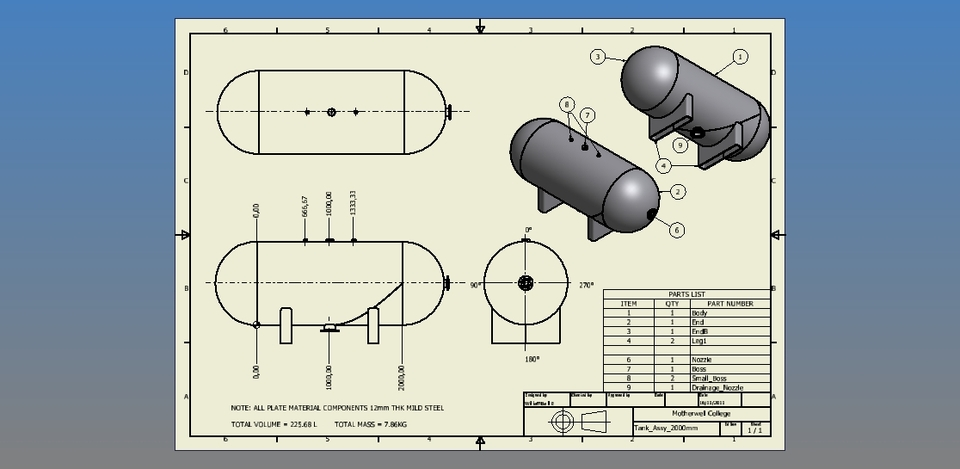nozzle: (636, 192, 667, 231), (685, 124, 711, 147)
